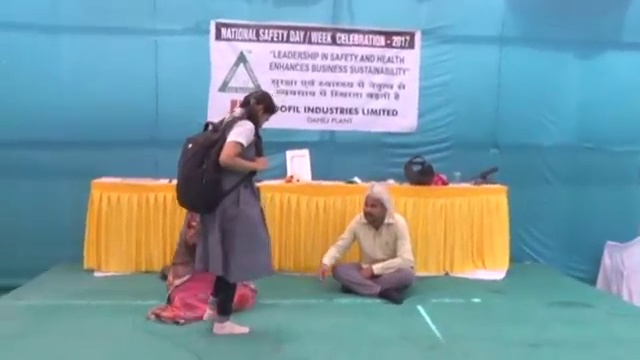helmet_off: (240, 91, 278, 132), (361, 191, 388, 228)
person: (178, 91, 277, 334), (319, 190, 415, 302)
